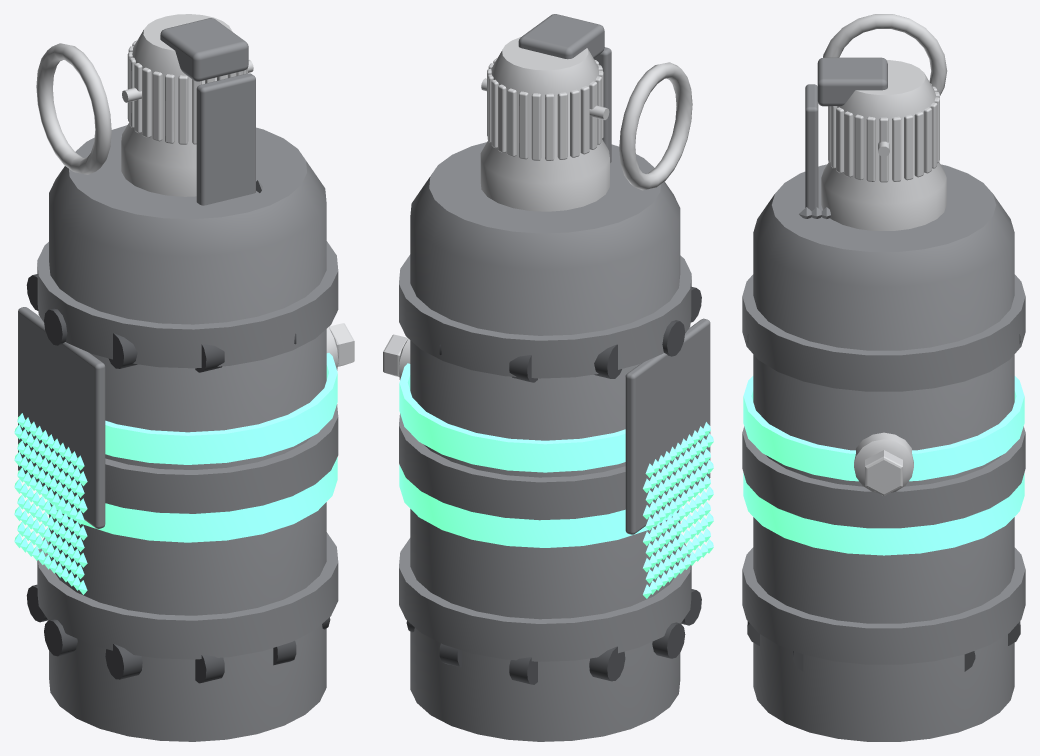
The model's file is mega-weapon-pack-gas-grenade-54b0e18a.glb.
3 renders of one model, left to right at view 1: azimuth 30°, elevation 25°; view 2: azimuth 150°, elevation 25°; view 3: azimuth 270°, elevation 25°, orthographic. The views are drawn at different scales.
Parts seen in each view (by area): view 1: gas-grenade; view 2: gas-grenade; view 3: gas-grenade.
Boxes of the visible parts, x1=… form: gas-grenade: x1=14, y1=14, x2=354, y2=741; gas-grenade: x1=383, y1=14, x2=713, y2=741; gas-grenade: x1=742, y1=14, x2=1025, y2=741.
Bounding box in the file's own units: 0.0645 × 0.1365 × 0.0564.
